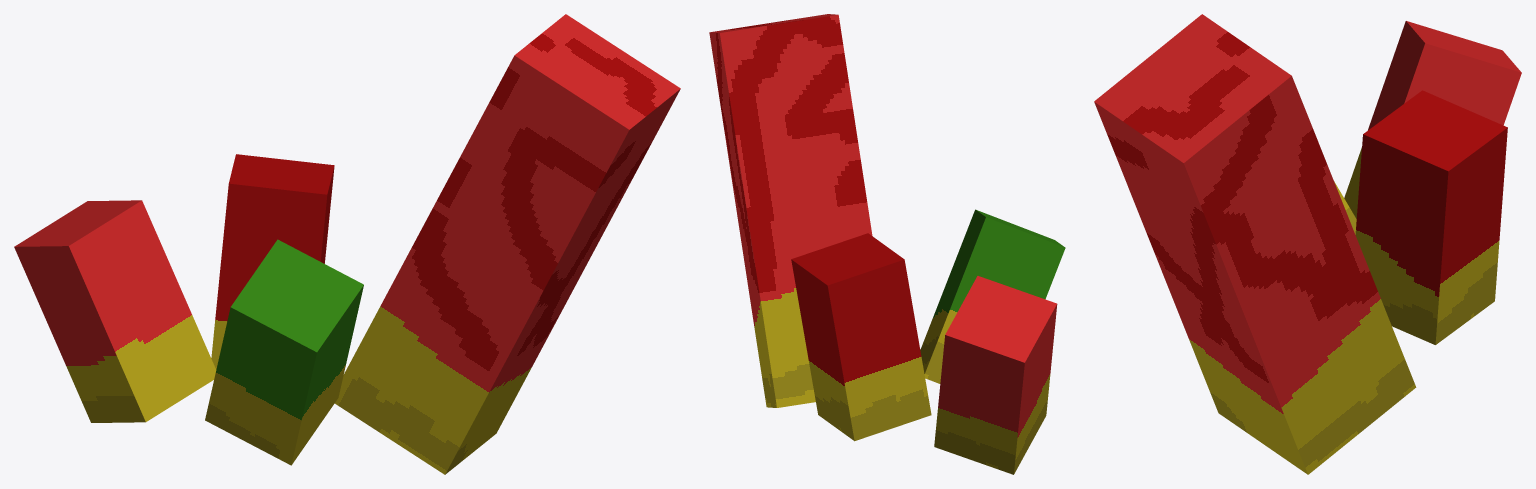
File: DamageIncrease.gltf
The picture shows the model from 3 angles, left to right: view 1: azimuth 30°, elevation 25°; view 2: azimuth 150°, elevation 25°; view 3: azimuth 270°, elevation 25°; orthographic projection. The views are drawn at different scales.
Parts seen in each view (by area): view 1: mesh (×4); view 2: mesh (×4); view 3: mesh (×3).
Part boxes in pixels (x1,y1,x2,y2): mesh (×4): [14, 14, 680, 474]; mesh (×4): [709, 14, 1065, 474]; mesh (×3): [1094, 14, 1521, 474].
Size of the model in its own units: 1.87 by 1.47 by 1.28.
Materials: 1 (1 with a texture image).
